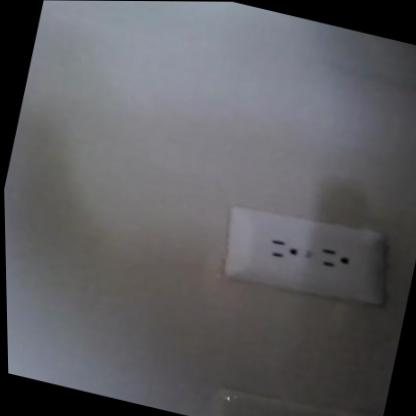OUTLET: (219, 199, 390, 310)
